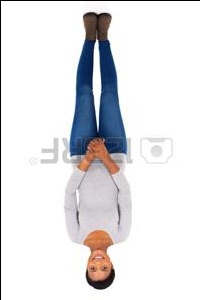arm: (109, 167, 132, 245), (65, 166, 85, 244)
face: (86, 250, 115, 289)
foot: (83, 12, 99, 40), (100, 13, 112, 40)
hand: (87, 138, 108, 158)
leg: (70, 41, 99, 154), (100, 40, 127, 153)
neck: (86, 235, 114, 250)
